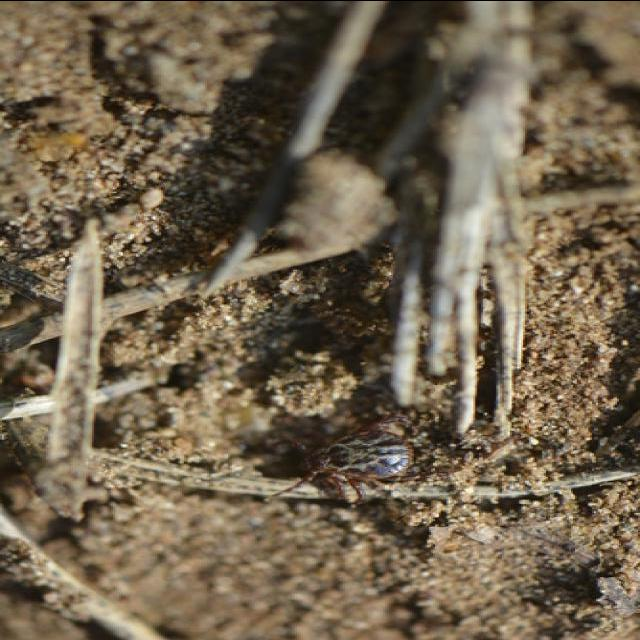Dermacentor Reticulatus-M: (266, 413, 431, 506)
